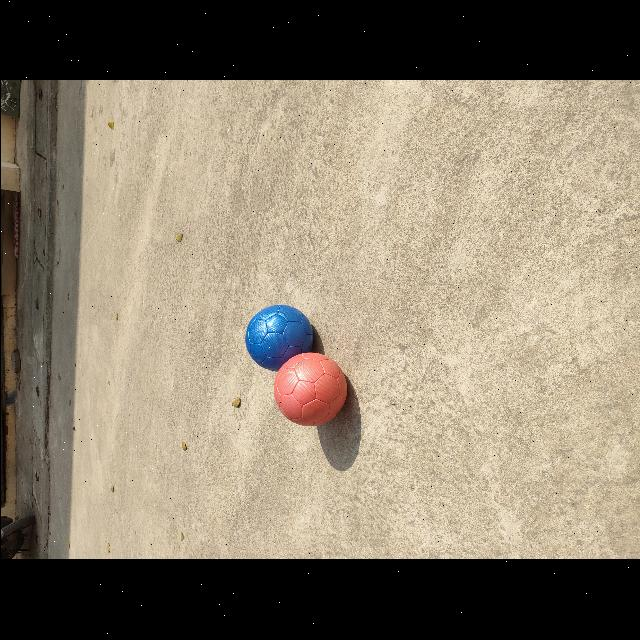B: (244, 305, 312, 372)
R: (273, 353, 346, 427)
